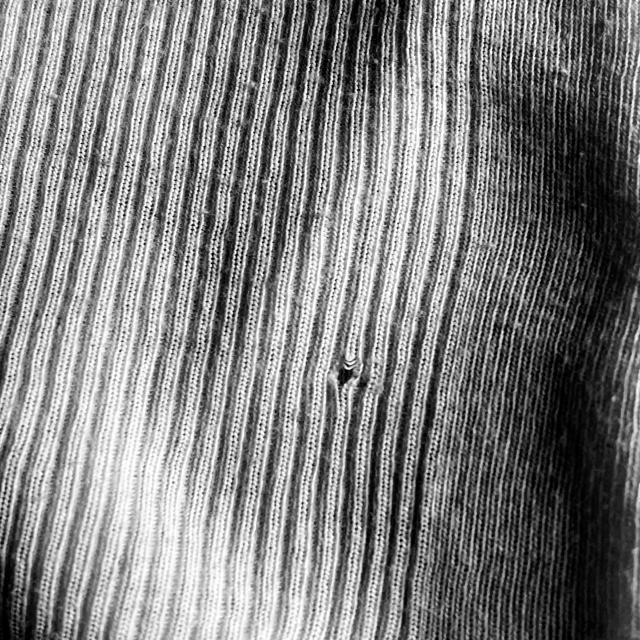Hole: (322, 348, 369, 396)
